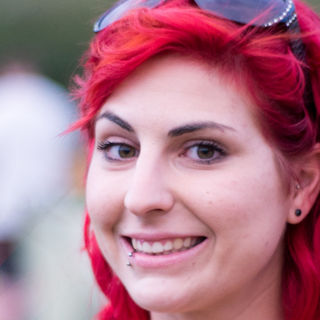eye: (171, 138, 232, 165), (92, 135, 145, 166)
